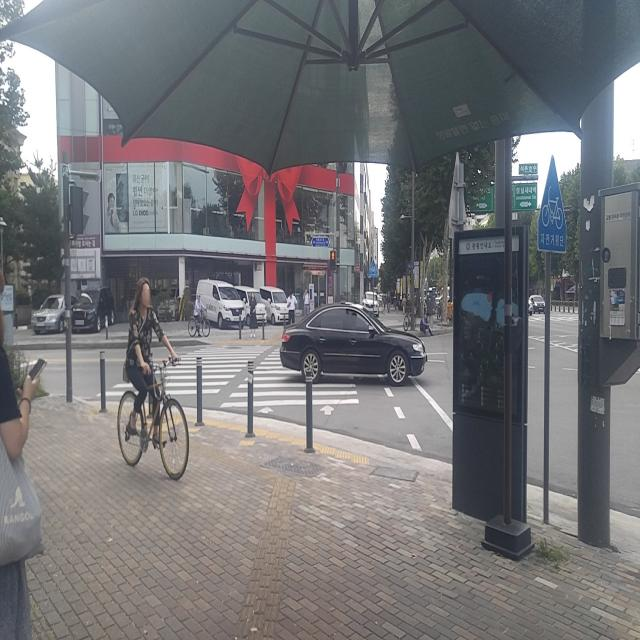빨간불: (329, 249, 337, 272)
횡단보도: (101, 338, 366, 418)
